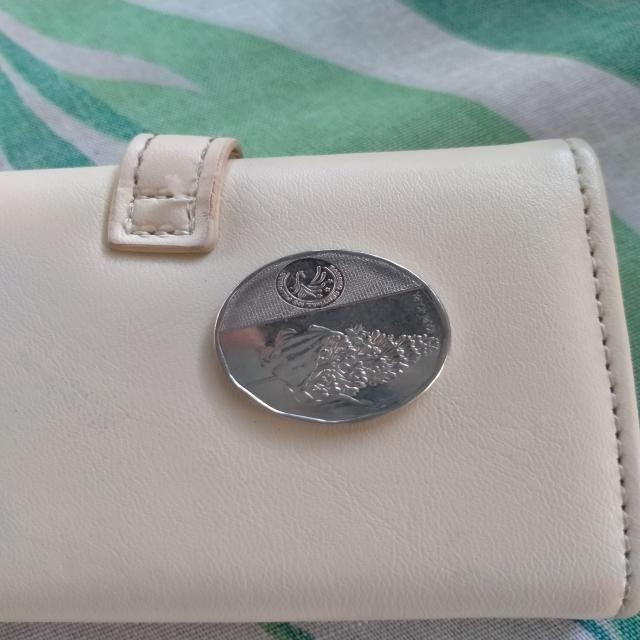10_New_Back: (257, 313, 439, 411)
